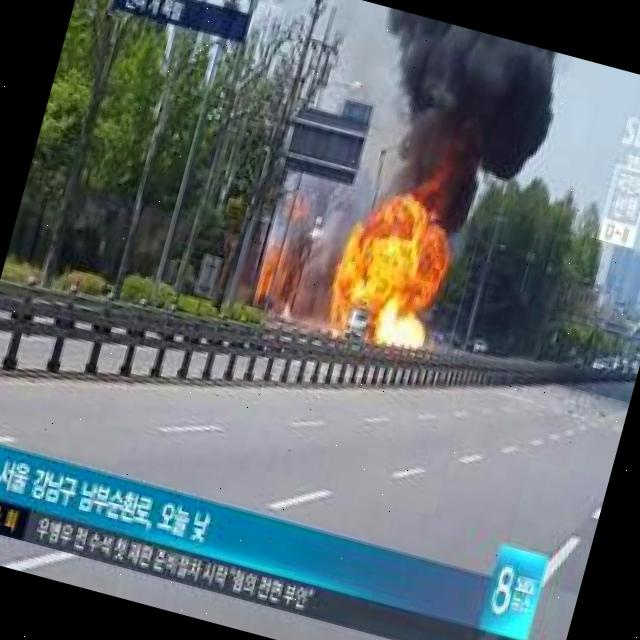fire: (325, 214, 445, 352)
